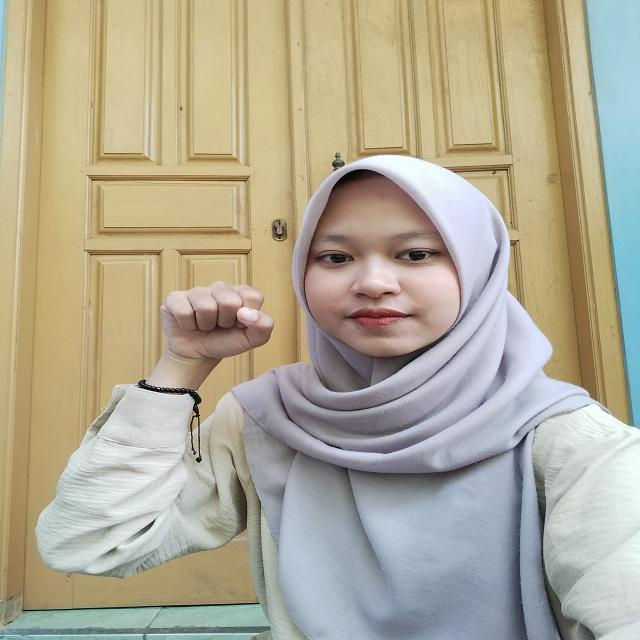baik: (128, 263, 282, 385)
